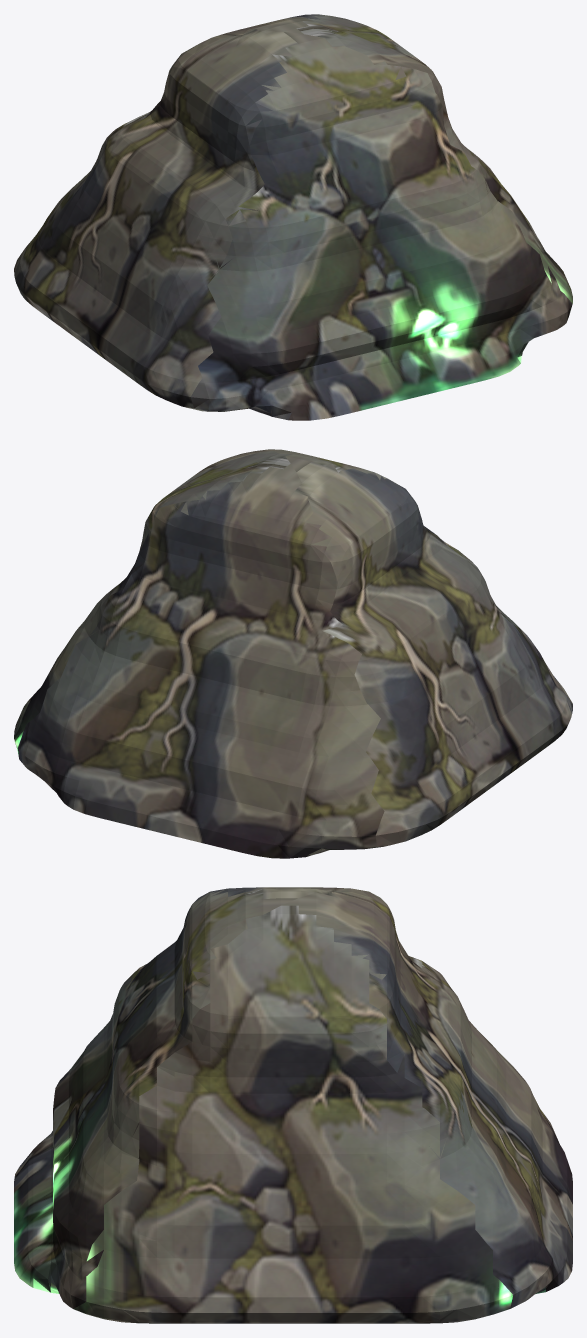
Rendered from rubble.glb.
3 renders of one model, top to bottom at view 1: azimuth 30°, elevation 25°; view 2: azimuth 150°, elevation 25°; view 3: azimuth 270°, elevation 25°, orthographic. The views are drawn at different scales.
Visible parts, largest first — view 1: rubble; view 2: rubble; view 3: rubble.
Boxes of the visible parts, <box> form: rubble: <box>14,14,572,420</box>; rubble: <box>14,449,572,858</box>; rubble: <box>14,887,572,1323</box>.
Bounding box in the file's own units: 0.9738 × 0.6122 × 0.9677.
Materials: 1 (1 with a texture image).
